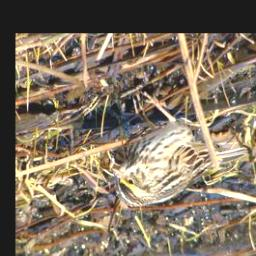Sparrow: (112, 91, 249, 208)
